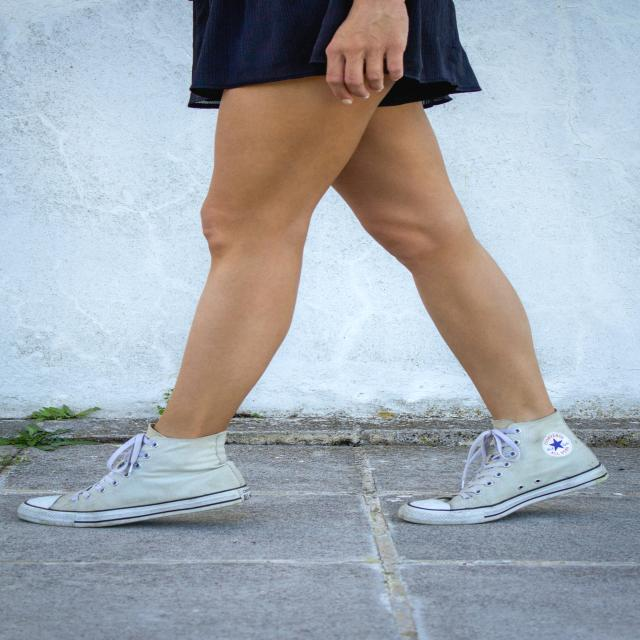piel: (157, 79, 560, 440), (322, 0, 411, 107)
